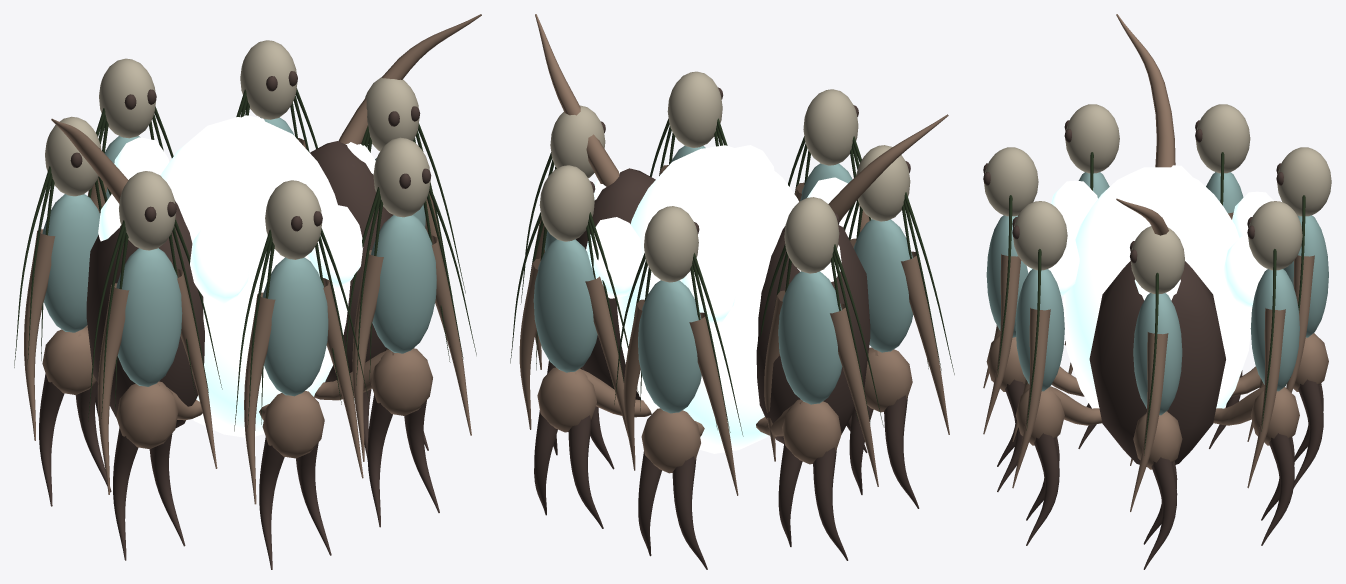
Rendered from drowned.glb.
3 renders of one model, left to right at view 1: azimuth 30°, elevation 25°; view 2: azimuth 150°, elevation 25°; view 3: azimuth 270°, elevation 25°, orthographic. The views are drawn at different scales.
Parts seen in each view (by area): view 1: Connected fungal cord, EnemyCore, Drowned ribcage.005, Drowned ribcage.004, Drowned ribcage.006, Drowned ribcage.003, Remembered armor, Remembered spore, Growing memory.006, Drowned ribcage, Drowned ribcage.002; view 2: Connected fungal cord, EnemyCore, Drowned ribcage.002, Drowned ribcage.001, Drowned ribcage.003, Drowned ribcage.004, Remembered armor, Remembered spore, Growing memory.006, Drowned ribcage.005, Drowned ribcage; view 3: Connected fungal cord, EnemyCore, Remembered armor, Drowned ribcage.006, Drowned ribcage.001, Drowned ribcage, Drowned ribcage.002, Drowned ribcage.005, Remembered spore, Growing memory.006, Drowned ribcage.003, Drowned ribcage.004.
Part boxes in pixels (bbox=[...]): Connected fungal cord: bbox=[14, 40, 476, 431]; EnemyCore: bbox=[160, 117, 350, 437]; Drowned ribcage.005: bbox=[244, 257, 363, 569]; Drowned ribcage.004: bbox=[98, 248, 217, 560]; Drowned ribcage.006: bbox=[352, 215, 471, 527]; Drowned ribcage.003: bbox=[24, 194, 111, 506]; Remembered armor: bbox=[86, 141, 393, 428]; Remembered spore: bbox=[98, 115, 375, 304]; Growing memory.006: bbox=[51, 14, 481, 203]; Drowned ribcage: bbox=[363, 158, 442, 459]; Drowned ribcage.002: bbox=[85, 136, 140, 416]; Connected fungal cord: bbox=[510, 71, 954, 436]; EnemyCore: bbox=[617, 145, 798, 453]; Drowned ribcage.002: bbox=[623, 280, 738, 569]; Drowned ribcage.001: bbox=[519, 239, 628, 528]; Drowned ribcage.003: bbox=[764, 271, 878, 560]; Drowned ribcage.004: bbox=[849, 219, 949, 508]; Remembered armor: bbox=[575, 168, 870, 443]; Remembered spore: bbox=[586, 145, 859, 324]; Growing memory.006: bbox=[535, 14, 948, 221]; Drowned ribcage.005: bbox=[795, 163, 869, 452]; Drowned ribcage: bbox=[534, 218, 614, 469]; Connected fungal cord: bbox=[983, 104, 1331, 455]; EnemyCore: bbox=[1062, 167, 1251, 408]; Remembered armor: bbox=[1089, 167, 1225, 467]; Drowned ribcage.006: bbox=[1012, 269, 1064, 545]; Drowned ribcage.001: bbox=[1247, 269, 1299, 545]; Drowned ribcage: bbox=[1130, 293, 1182, 569]; Drowned ribcage.002: bbox=[1283, 215, 1328, 488]; Drowned ribcage.005: bbox=[983, 215, 1028, 491]; Remembered spore: bbox=[1027, 165, 1273, 310]; Growing memory.006: bbox=[1116, 14, 1175, 235]; Drowned ribcage.003: bbox=[1206, 172, 1243, 448]; Drowned ribcage.004: bbox=[1064, 172, 1109, 448].
Size of the model in its own units: 3.21 by 3.13 by 2.55.
